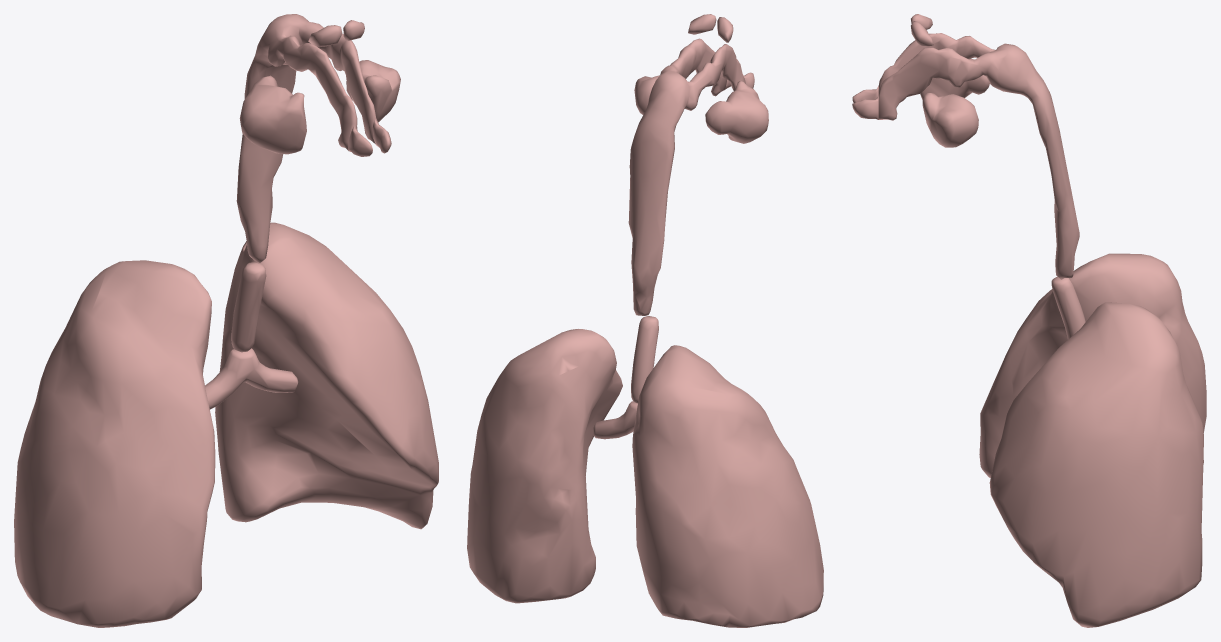
File: pediatric_child_5y_female.respiratory.LOD1.glb
The picture shows the model from 3 angles, left to right: view 1: azimuth 30°, elevation 25°; view 2: azimuth 150°, elevation 25°; view 3: azimuth 270°, elevation 25°; orthographic projection. The views are drawn at different scales.
Visible parts, largest first — view 1: PEDIATRIC.CHILD_5Y.FEMALE.RESPIRATORY.LUNG.R, PEDIATRIC.CHILD_5Y.FEMALE.RESPIRATORY.LUNG.L, PEDIATRIC.CHILD_5Y.FEMALE.RESPIRATORY.ET2, PEDIATRIC.CHILD_5Y.FEMALE.RESPIRATORY.BB1, PEDIATRIC.CHILD_5Y.FEMALE.RESPIRATORY.TRACHEA, PEDIATRIC.CHILD_5Y.FEMALE.RESPIRATORY.ET1; view 2: PEDIATRIC.CHILD_5Y.FEMALE.RESPIRATORY.LUNG.R, PEDIATRIC.CHILD_5Y.FEMALE.RESPIRATORY.LUNG.L, PEDIATRIC.CHILD_5Y.FEMALE.RESPIRATORY.ET2, PEDIATRIC.CHILD_5Y.FEMALE.RESPIRATORY.TRACHEA, PEDIATRIC.CHILD_5Y.FEMALE.RESPIRATORY.BB1; view 3: PEDIATRIC.CHILD_5Y.FEMALE.RESPIRATORY.LUNG.L, PEDIATRIC.CHILD_5Y.FEMALE.RESPIRATORY.ET2, PEDIATRIC.CHILD_5Y.FEMALE.RESPIRATORY.LUNG.R, PEDIATRIC.CHILD_5Y.FEMALE.RESPIRATORY.TRACHEA, PEDIATRIC.CHILD_5Y.FEMALE.RESPIRATORY.ET1.
Part boxes in pixels (box(x1,y1,x2,y2)): PEDIATRIC.CHILD_5Y.FEMALE.RESPIRATORY.LUNG.R: box(14, 260, 215, 627); PEDIATRIC.CHILD_5Y.FEMALE.RESPIRATORY.LUNG.L: box(215, 222, 438, 529); PEDIATRIC.CHILD_5Y.FEMALE.RESPIRATORY.ET2: box(236, 14, 400, 262); PEDIATRIC.CHILD_5Y.FEMALE.RESPIRATORY.BB1: box(205, 348, 298, 409); PEDIATRIC.CHILD_5Y.FEMALE.RESPIRATORY.TRACHEA: box(231, 262, 266, 352); PEDIATRIC.CHILD_5Y.FEMALE.RESPIRATORY.ET1: box(348, 119, 391, 156); PEDIATRIC.CHILD_5Y.FEMALE.RESPIRATORY.LUNG.R: box(632, 345, 823, 627); PEDIATRIC.CHILD_5Y.FEMALE.RESPIRATORY.LUNG.L: box(467, 329, 622, 603); PEDIATRIC.CHILD_5Y.FEMALE.RESPIRATORY.ET2: box(628, 14, 768, 315); PEDIATRIC.CHILD_5Y.FEMALE.RESPIRATORY.TRACHEA: box(631, 316, 658, 403); PEDIATRIC.CHILD_5Y.FEMALE.RESPIRATORY.BB1: box(593, 401, 637, 439); PEDIATRIC.CHILD_5Y.FEMALE.RESPIRATORY.LUNG.L: box(989, 302, 1203, 627); PEDIATRIC.CHILD_5Y.FEMALE.RESPIRATORY.ET2: box(878, 14, 1079, 279); PEDIATRIC.CHILD_5Y.FEMALE.RESPIRATORY.LUNG.R: box(979, 253, 1206, 477); PEDIATRIC.CHILD_5Y.FEMALE.RESPIRATORY.TRACHEA: box(1051, 277, 1085, 339); PEDIATRIC.CHILD_5Y.FEMALE.RESPIRATORY.ET1: box(852, 86, 878, 119).
Size of the model in its own units: 0.1722 by 0.259 by 0.1556.
